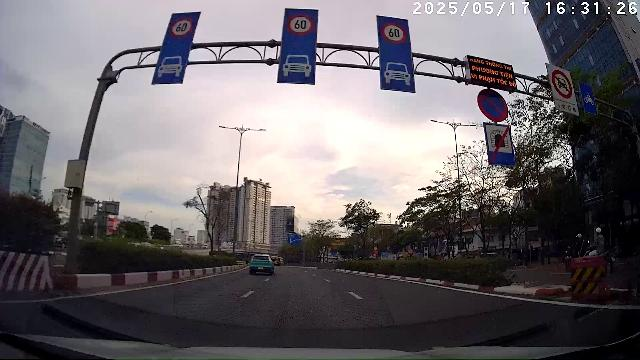103a-cam-oto: (551, 68, 573, 98)
127-toc-do-toi-da-60: (287, 13, 315, 36), (381, 21, 407, 44), (170, 16, 194, 38)
131a-cam-do-xe: (476, 89, 508, 123)
